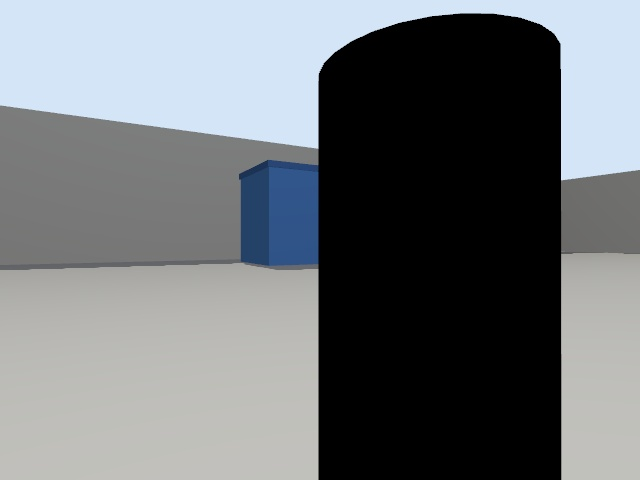bouteille_verre: (319, 14, 560, 479)
